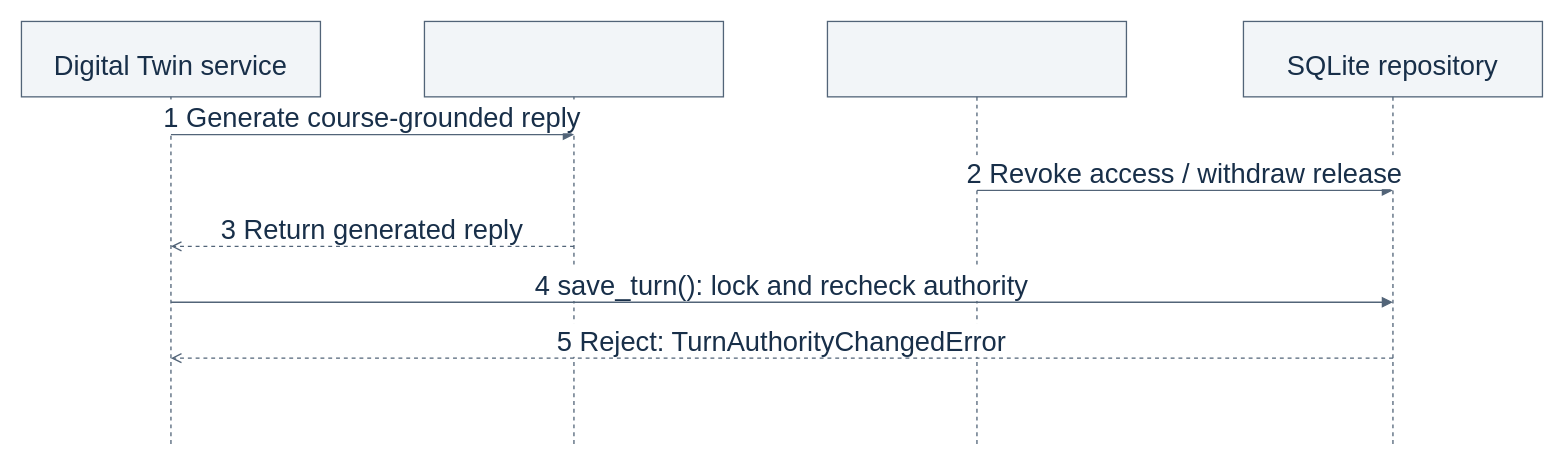
Some shapes in this 1564 by 465 pixel diagram are drawn without their labels. Here are the shapes that lost their labels. From the top down, the centre of each, then its label:
(573,232): Model provider
(976,232): Professor / admin
